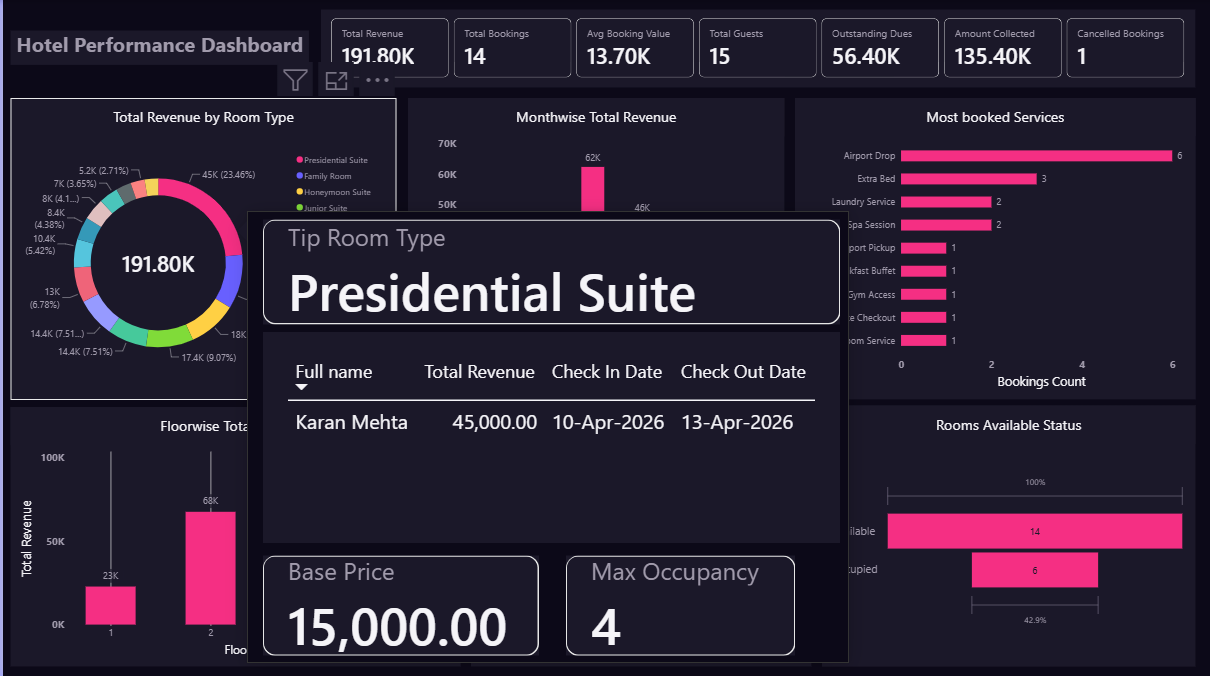

The page's visual inventory and layout, read from the dashboard file:
{"tool":"powerbi","page":{"name":"Page 1","canvas":[1920,1080],"ordinal":0},"visuals":[{"type":"textbox","box":[11.9,50.1,474.8,54.9],"z":0},{"type":"cardVisual","fields":{"Data":["bookings_info.Total Revenue","bookings_info.Total_Bookings","bookings_info.Avg Booking Value","bookings_info.Total Guests","bookings_info.Outstanding Dues","bookings_info.Amount Collected","bookings_info.Cancelled Bookings"]},"box":[505.8,16.7,1391,124.1],"z":1},{"type":"donutChart","title":"Total Revenue by Room Type","fields":{"Category":["room_types.type_name"],"Y":["bookings_info.Total Revenue"]},"box":[12,158.3,614.1,479.8],"z":2},{"type":"columnChart","title":"Monthwise Total Revenue","fields":{"Category":["bookings_info.booking_date.Variation.Date Hierarchy.Month"],"Y":["bookings_info.Total Revenue"]},"box":[644.2,157.5,598.9,479.6],"z":3},{"type":"barChart","title":"Most booked Services","fields":{"Category":["all_services.service_name"],"Y":["Sum(booking_services.quantity)"]},"box":[1259.8,157.5,637,479.6],"z":4},{"type":"pieChart","title":"Revenue by Payment Mode","fields":{"Category":["all_payments.payment_mode"],"Y":["all_payments.total_collected"]},"box":[744.4,644.2,541.6,417.5],"z":5},{"type":"funnel","title":"Rooms Available Status","fields":{"Category":["rooms_available.status"],"Y":["rooms_available.room_count"]},"box":[1302.7,646.6,594.1,415.1],"z":6},{"type":"lineStackedColumnComboChart","title":"Floorwise Total Revenue","fields":{"Category":["rooms_available.floor_number"],"Y":["bookings_info.Total Revenue"]},"box":[11.9,649,715.8,412.8],"z":7}]}

Visuals, with their boxes in screenshot pixels (x1, y1, x2, y2), scaled from the page's 1920x1080 canvas onto the 1210x676 screenshot:
textbox: left=7, top=31, right=307, bottom=66
cardVisual - bookings_info.Total Revenue x bookings_info.Total_Bookings: left=319, top=10, right=1195, bottom=88
"Total Revenue by Room Type" donutChart: left=8, top=99, right=395, bottom=399
"Monthwise Total Revenue" columnChart: left=406, top=99, right=783, bottom=399
"Most booked Services" barChart: left=794, top=99, right=1195, bottom=399
"Revenue by Payment Mode" pieChart: left=469, top=403, right=810, bottom=665
"Rooms Available Status" funnel: left=821, top=405, right=1195, bottom=665
"Floorwise Total Revenue" lineStackedColumnComboChart: left=7, top=406, right=459, bottom=665
